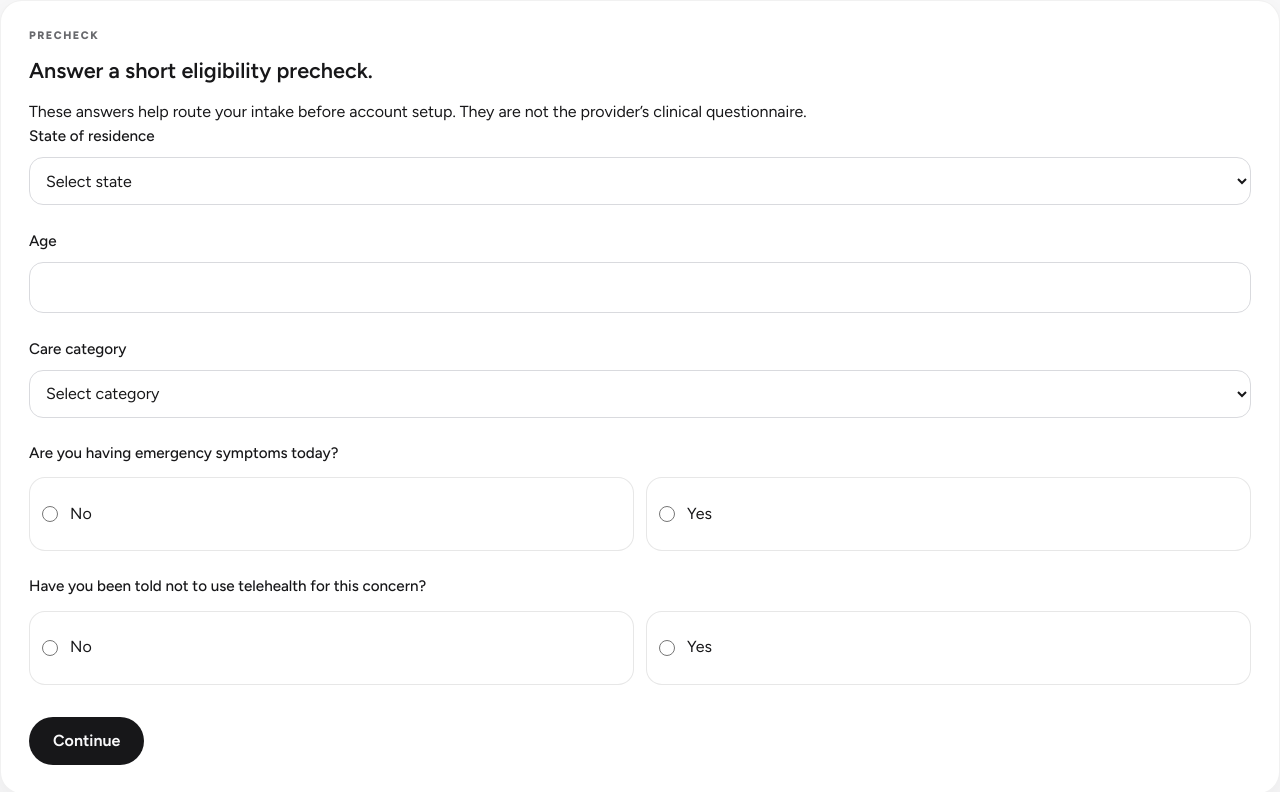
Scenario: intake page › shows clinician-review guidance for emergency_symptoms
This screenshot has width=1280, height=792.
Select "Illinois" in the dropdown labelled "State of residence" at (640, 181), box [29, 157, 1251, 205]
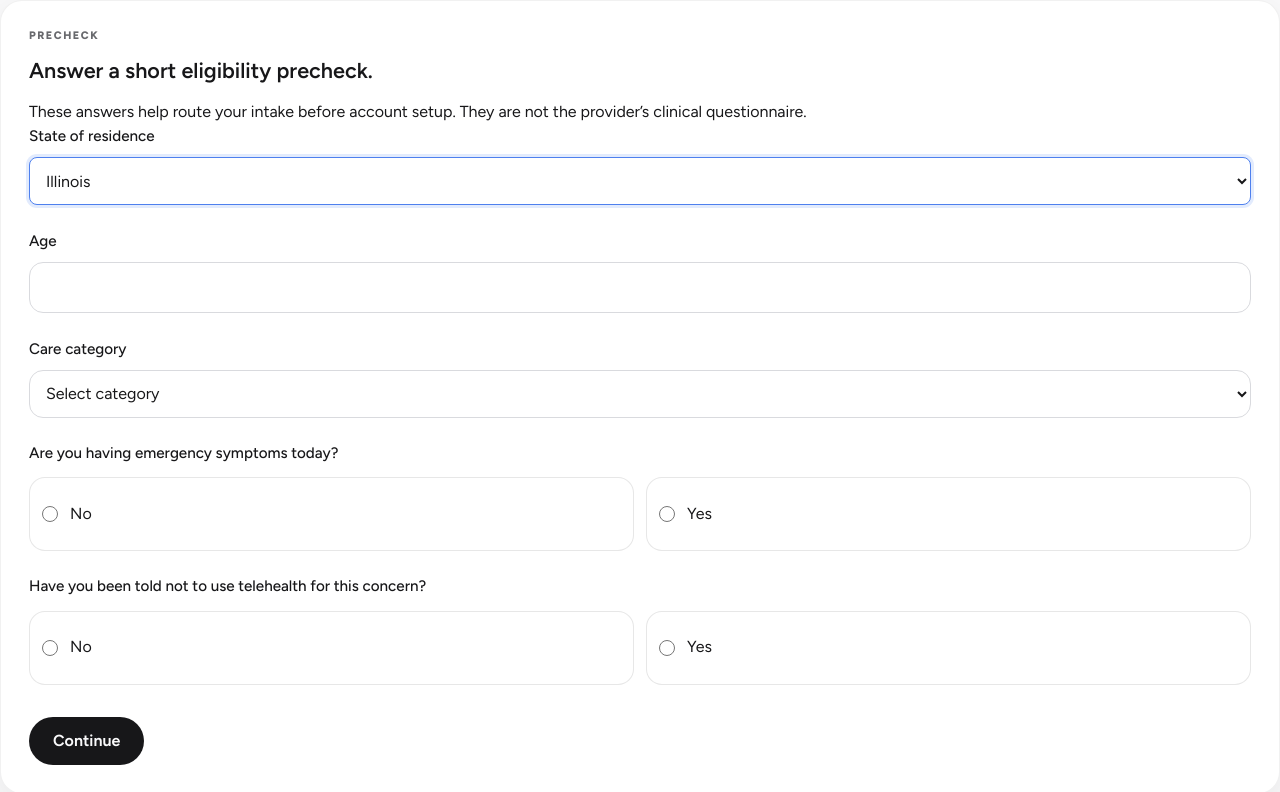
Type "34" into the number field labelled "Age" at (640, 287), box [29, 262, 1251, 313]
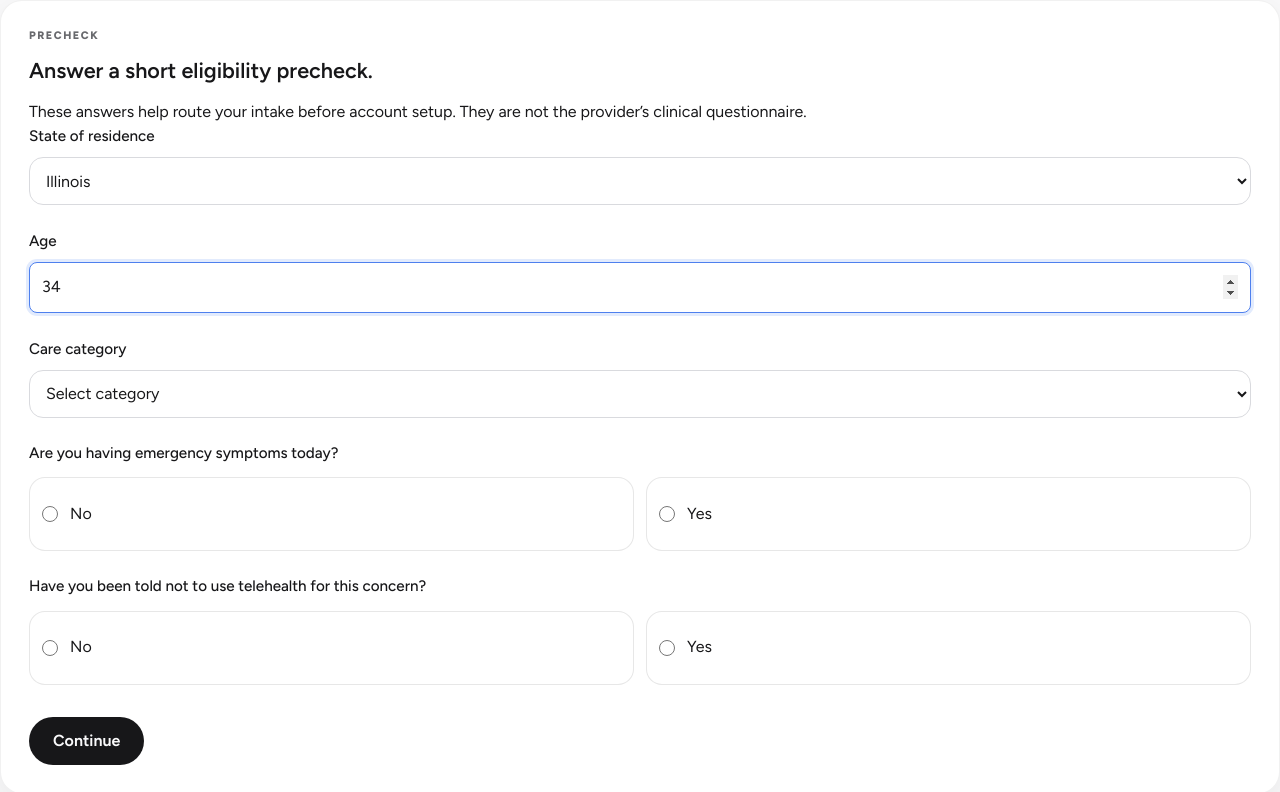
Select "Weight" in the dropdown labelled "Care category" at (640, 394), box [29, 370, 1251, 418]
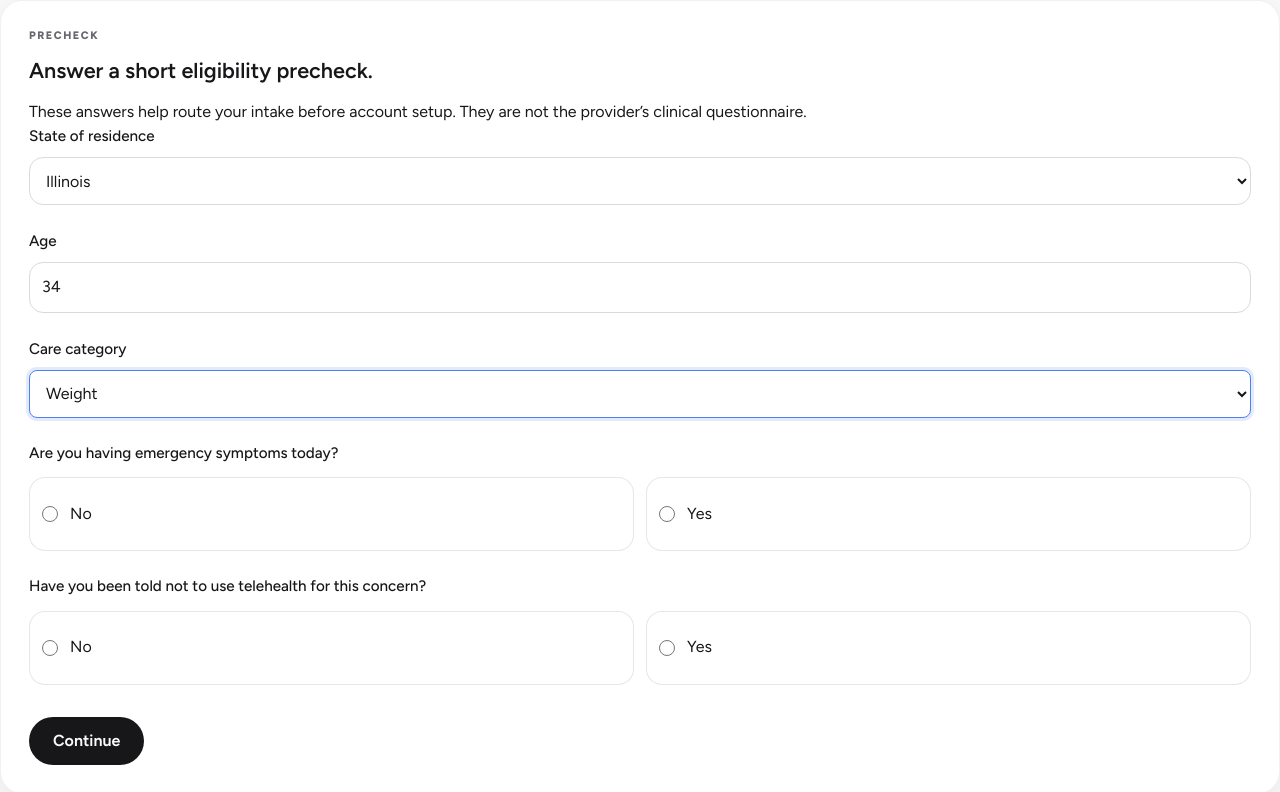
Click the 1st radio button labelled "Yes" at (667, 514), box [659, 490, 675, 538]
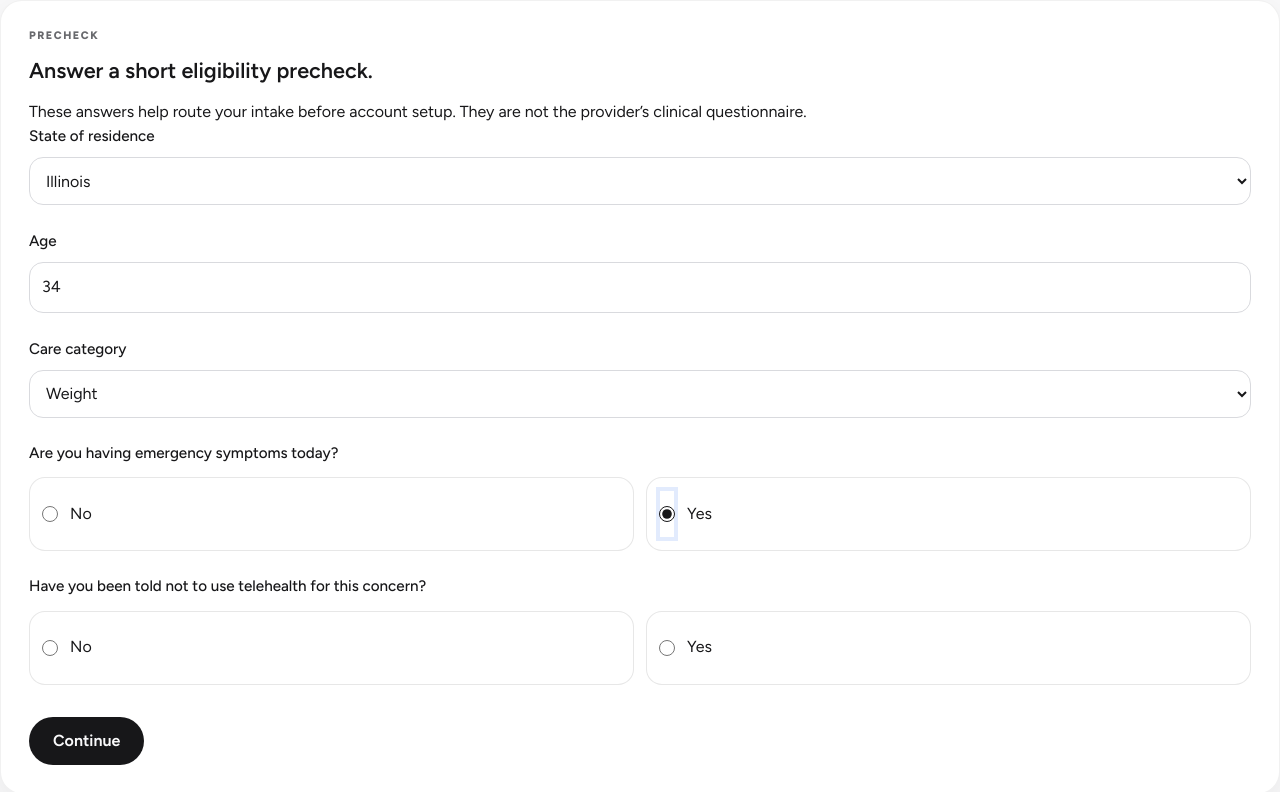
Click the 2nd radio button labelled "No" at (50, 648), box [42, 624, 58, 672]
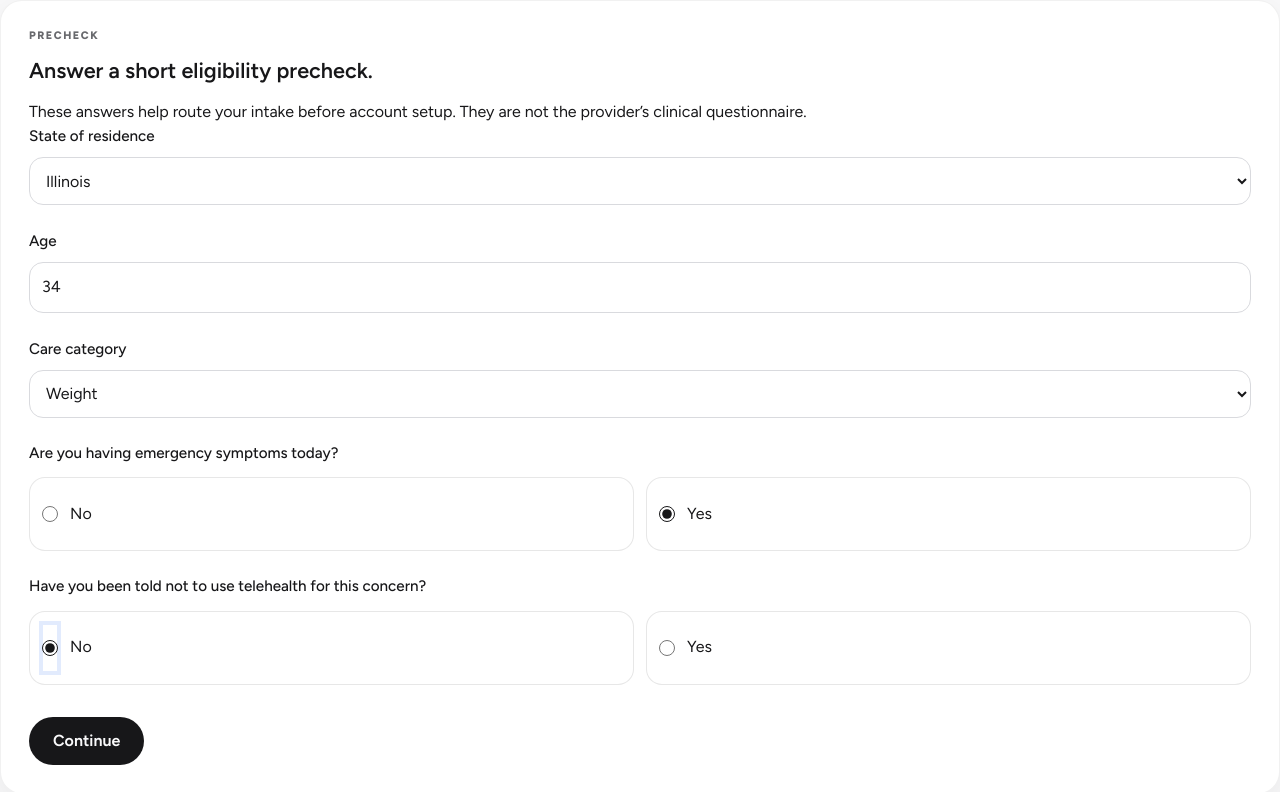
Click the button "Continue" at (87, 741), box [29, 717, 144, 765]
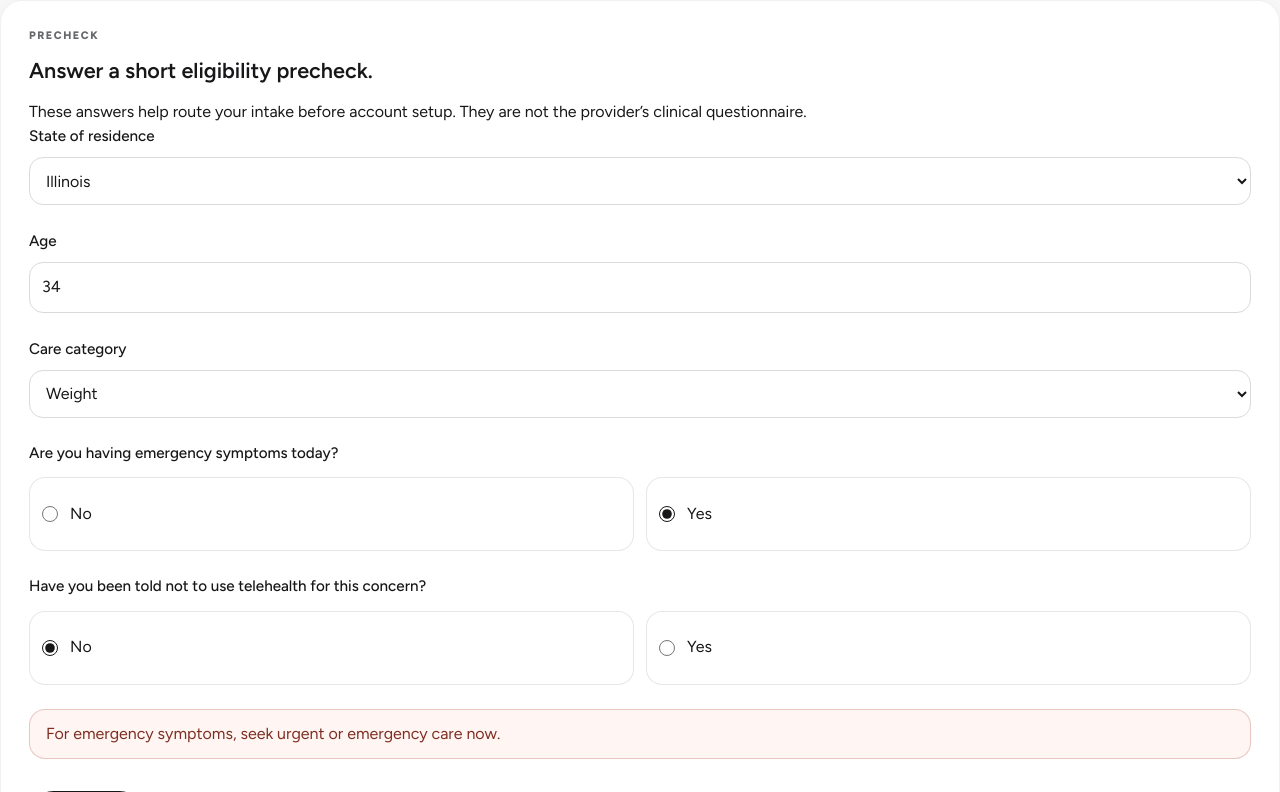
Expected: the message shows "seek urgent or emergency care now", [46, 724, 500, 743]
